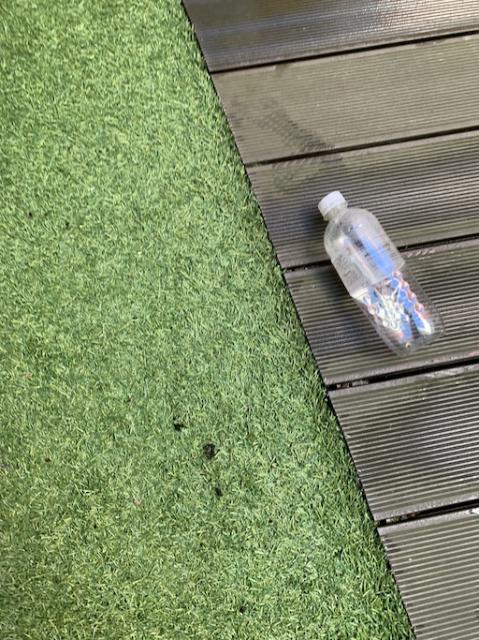plastic: (318, 190, 443, 354)
